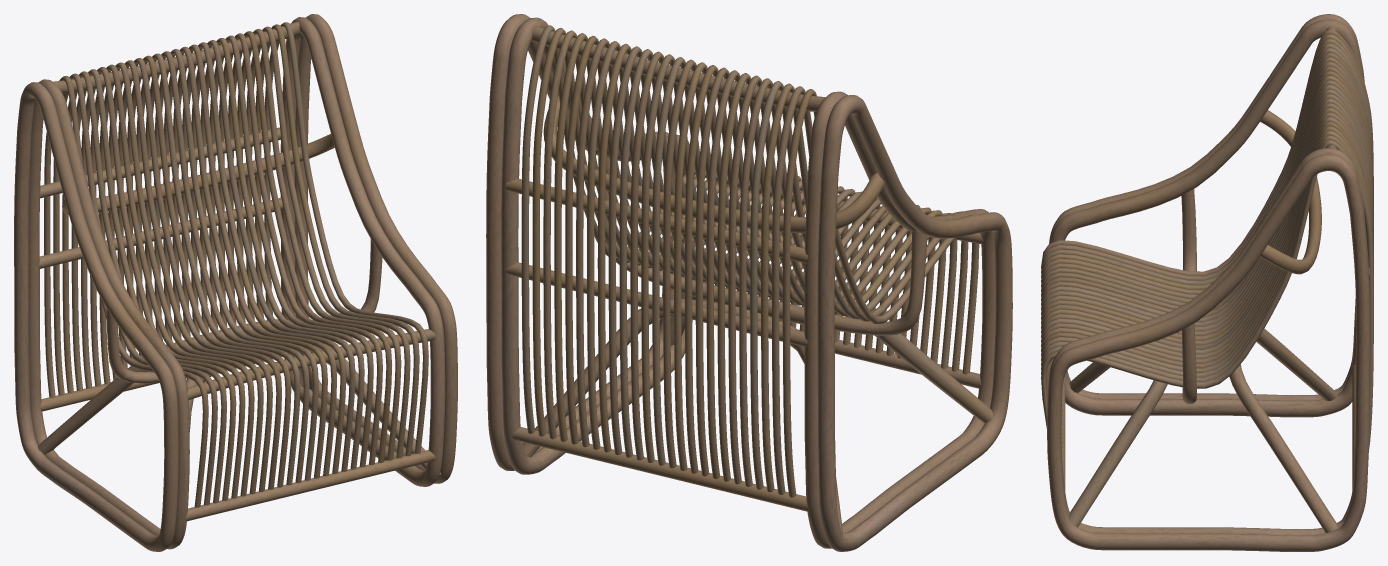
File: cadeira_confortavel2.fbx
3 views of the same model, side by side, from view 1: azimuth 30°, elevation 25°; view 2: azimuth 150°, elevation 25°; view 3: azimuth 270°, elevation 25° (orthographic). The views are drawn at different scales.
Parts seen in each view (by area): view 1: Cane Chair.Shape; view 2: Cane Chair.Shape; view 3: Cane Chair.Shape.
Part boxes in pixels (box(x1,y1,x2,y2)): Cane Chair.Shape: box(14, 14, 457, 551); Cane Chair.Shape: box(486, 14, 1012, 551); Cane Chair.Shape: box(1041, 14, 1373, 551).
Size of the model in its own units: 88.01 by 111 by 84.25.
1 material, 1 textured.
